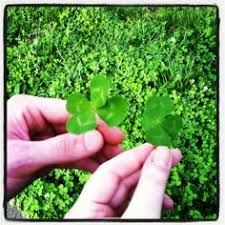4-clover: (66, 76, 131, 135), (142, 94, 182, 145)
